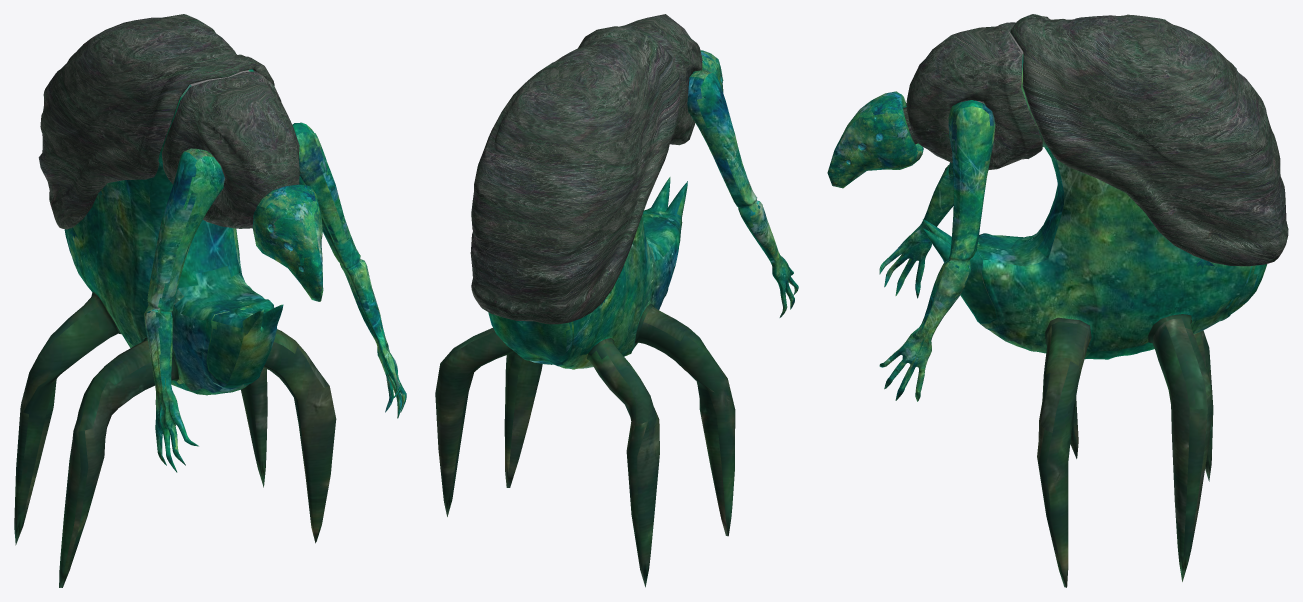
File: Andar.0018.obj
The picture shows the model from 3 angles, left to right: view 1: azimuth 30°, elevation 25°; view 2: azimuth 150°, elevation 25°; view 3: azimuth 270°, elevation 25°; orthographic projection. The views are drawn at different scales.
Visible parts, largest first — view 1: pCube14; view 2: pCube14; view 3: pCube14.
Part boxes in pixels (box(x1,y1,x2,y2)): pCube14: box(14, 14, 406, 587); pCube14: box(435, 14, 798, 587); pCube14: box(827, 14, 1288, 587).
Size of the model in its own units: 2.08 by 3.94 by 3.22.
5 materials, 4 textured.
